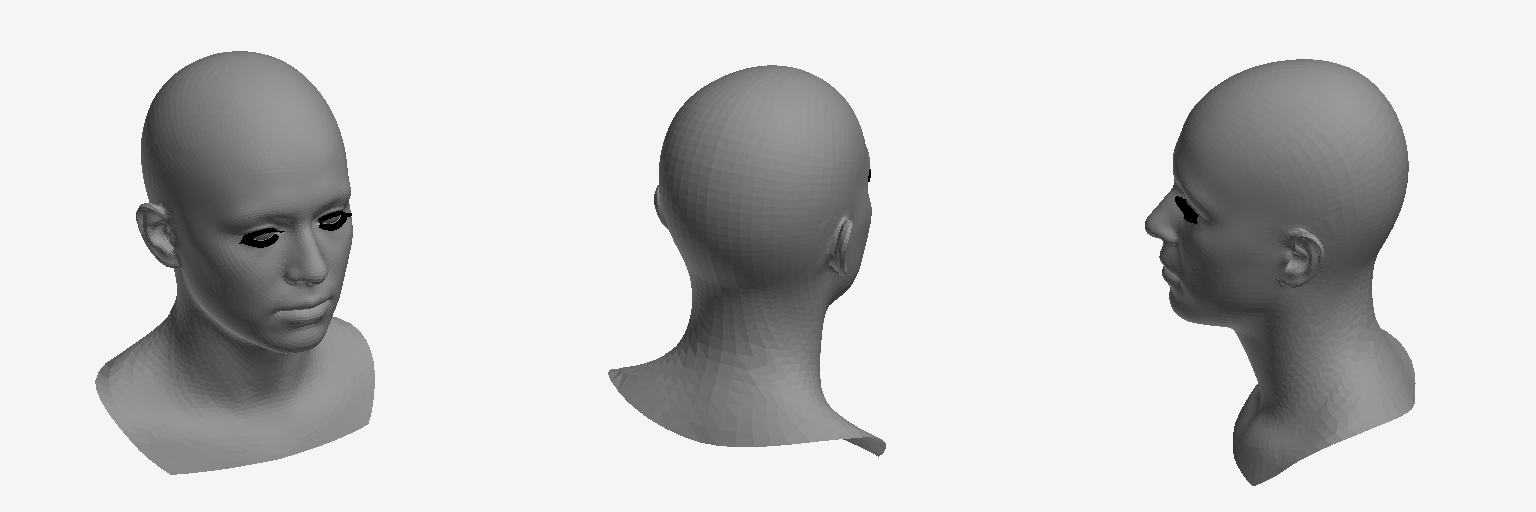
File: identity009.obj
3 views of the same model, side by side, from view 1: azimuth 30°, elevation 25°; view 2: azimuth 150°, elevation 25°; view 3: azimuth 270°, elevation 25° (orthographic).
Bounding box in the file's own units: 24.83 × 33.81 × 22.33.